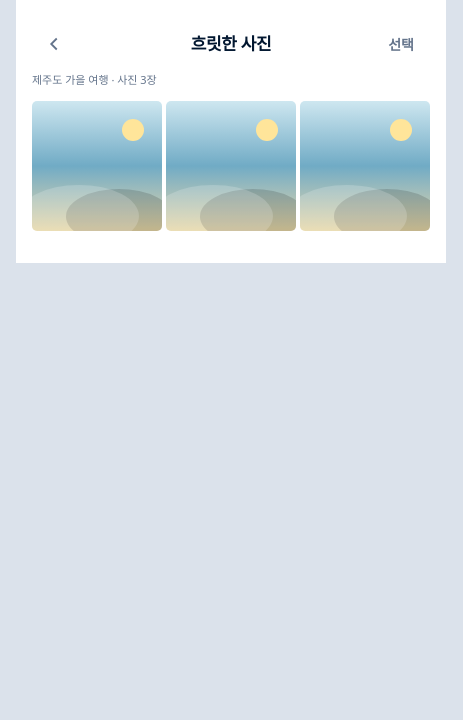
UnclassifiedPhotoListPage › 처음에는 일반 보기이고 취소 후 다시 진입하면 선택이 초기화된다
The image size is (463, 720).
Expected: the text "제주도 가을 여행 · 사진 3장" is shown, 32,72 -> 157,87
Expected: the number of buttons named "번째 사진 상세보기" is 3, 32,100 -> 162,230; 166,100 -> 296,230; 300,100 -> 430,230
Click the button "선택". click: x=401, y=44
box: 372,24 -> 430,64
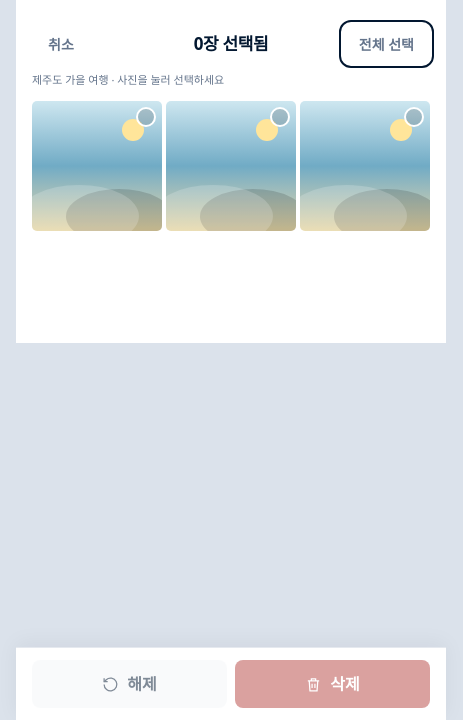
Click the button named "1번째 사진 선택". click: x=97, y=166
box: 32,100 -> 162,230
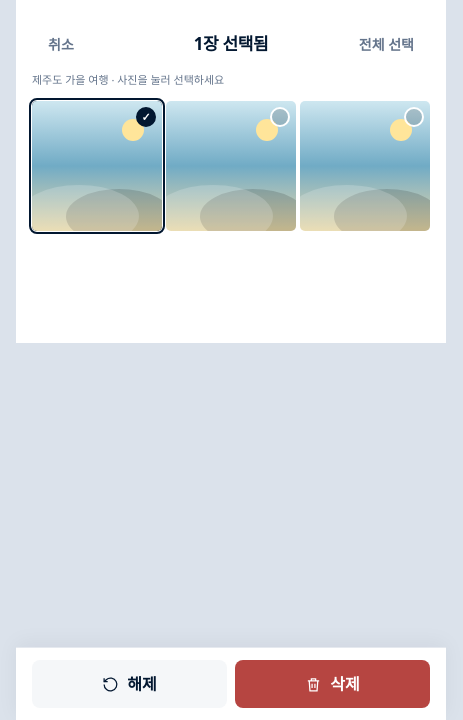
Click the button "취소". click: x=61, y=44
box: 32,24 -> 90,64
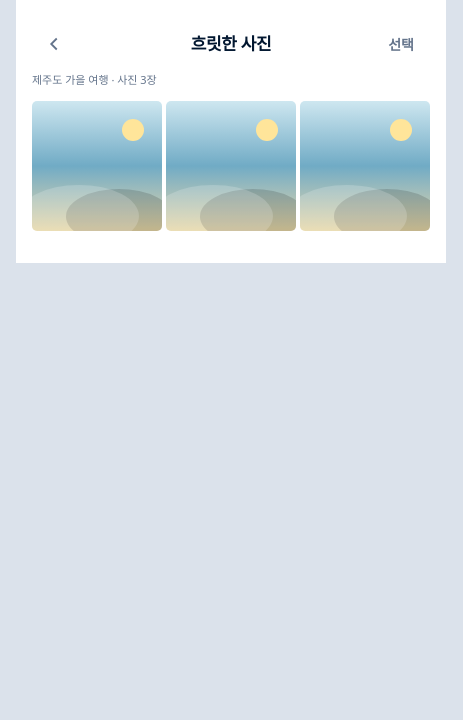
Now the heading "흐릿한 사진" is shown, box 191,32 -> 271,55
Now the button named "미분류 폴더로 돌아가기" is shown, box 32,22 -> 76,66
Click the button "선택". click: x=401, y=44
box: 372,24 -> 430,64
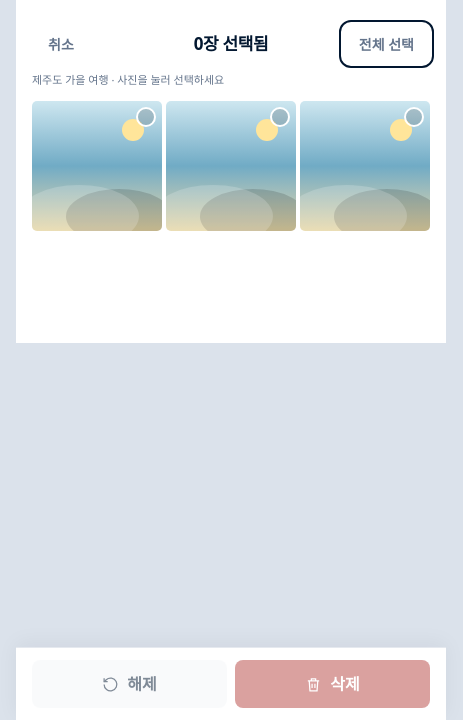
Now the heading "0장 선택됨" is shown, box 194,32 -> 268,55
